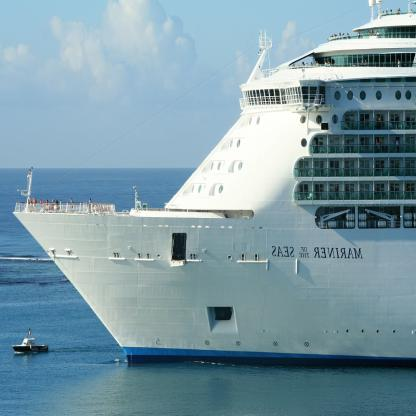Fishing Boat: (11, 338, 48, 355)
